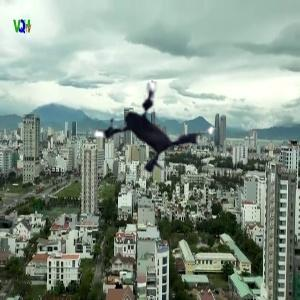drone: (82, 51, 226, 195)
